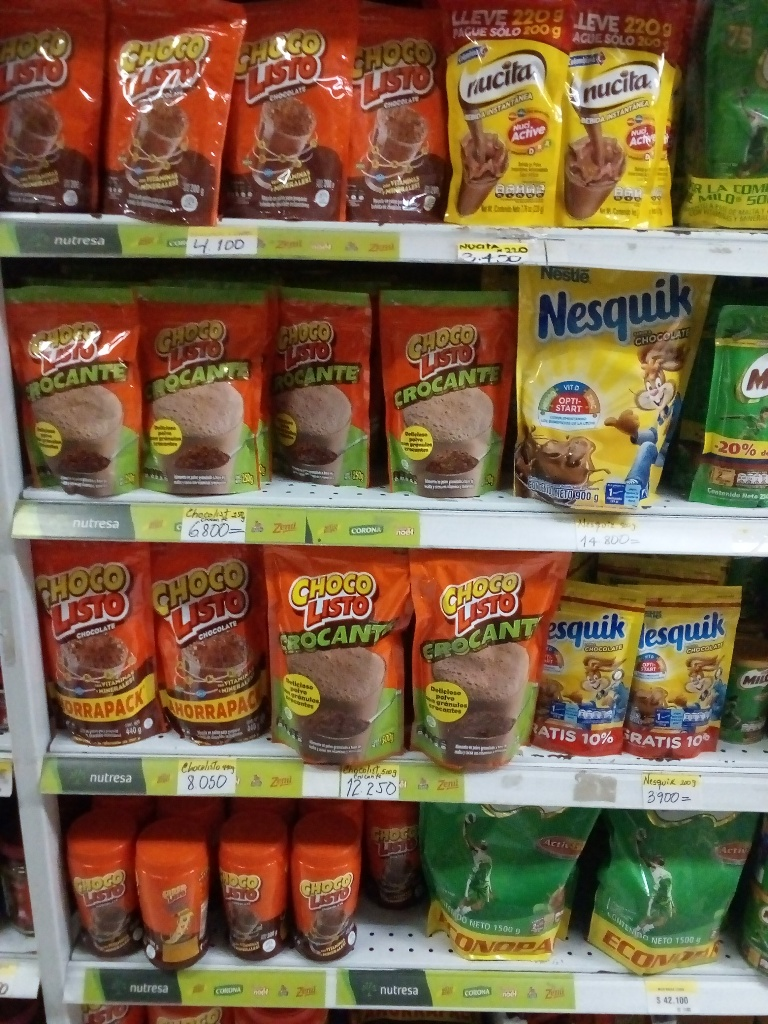COL0170102DYP50000: (273, 542, 409, 758)
COL0170103DYP44000: (28, 539, 157, 747)
COL0170103TRR30000: (65, 815, 138, 959)
COL0170203LAT20000: (722, 637, 767, 749)
